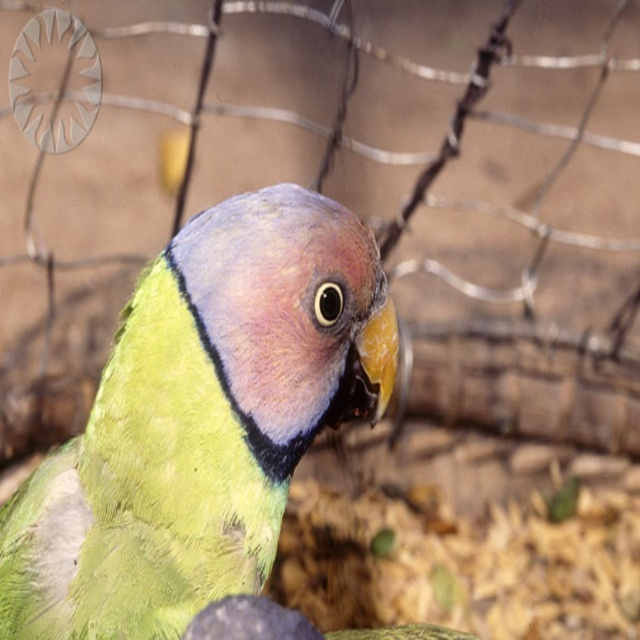Parrot: (0, 173, 400, 638)
